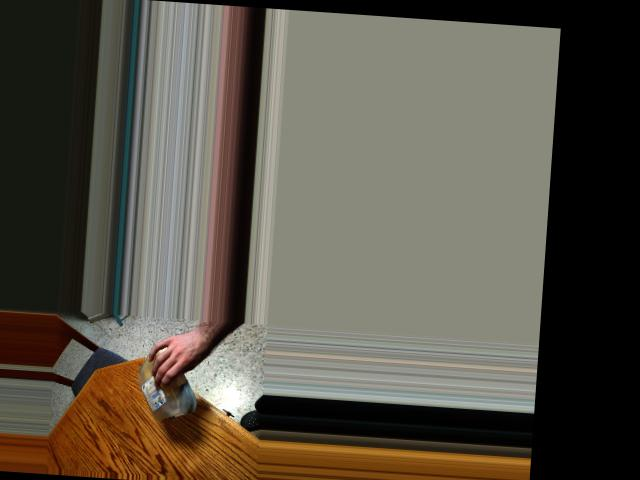cheese: (138, 355, 182, 415)
